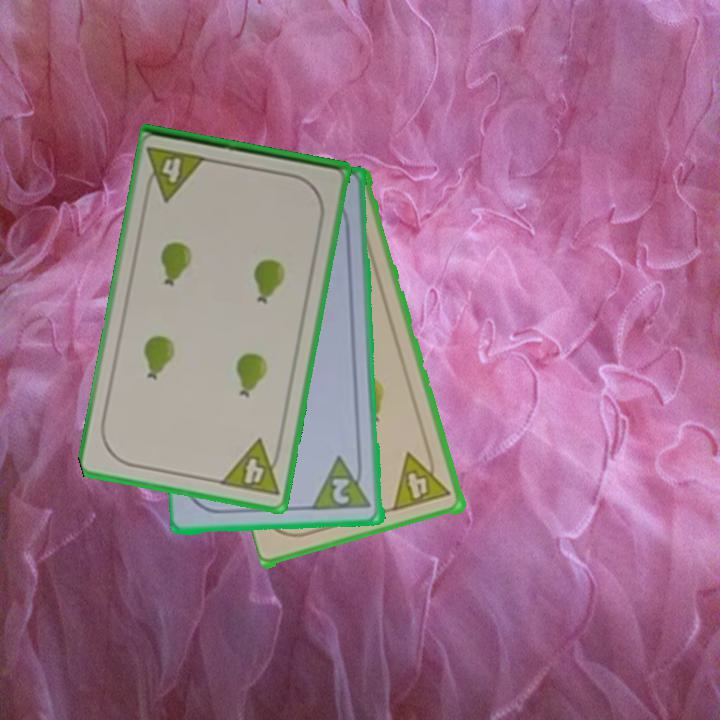2p: (310, 452, 375, 514)
4p: (217, 435, 286, 500), (390, 445, 454, 514), (141, 143, 210, 204)
